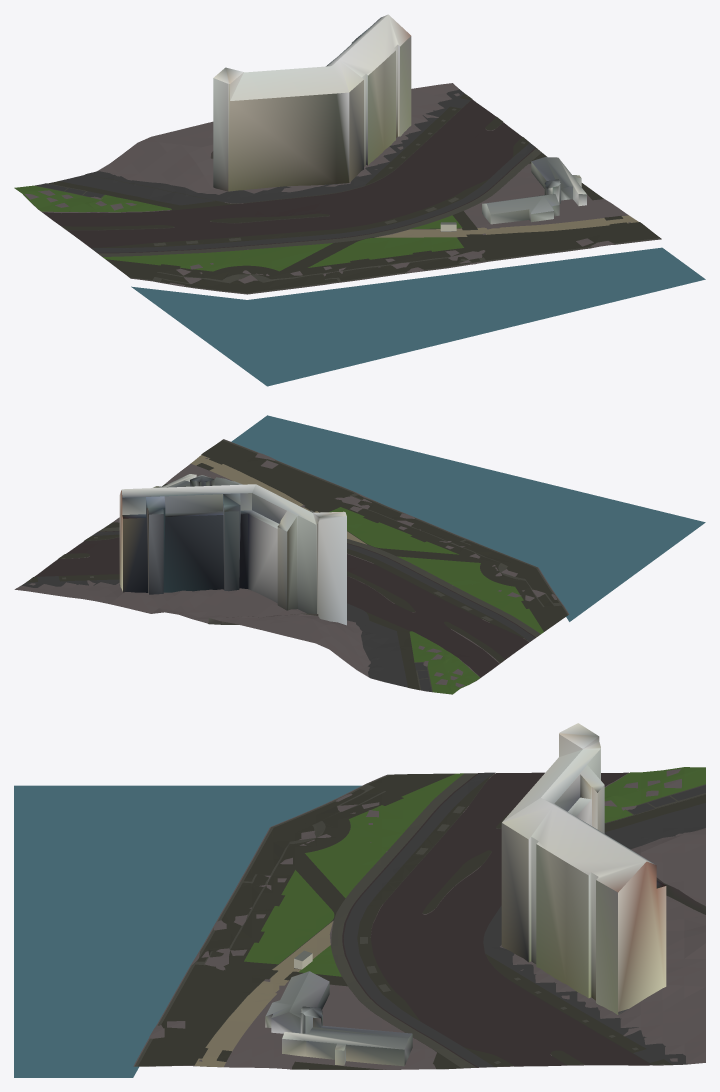
3 views of the same model, one above another, from view 1: azimuth 30°, elevation 25°; view 2: azimuth 150°, elevation 25°; view 3: azimuth 270°, elevation 25° (orthographic). The views are drawn at different scales.
Parts seen in each view (by area): view 1: c_m12_p07; view 2: c_m12_p07; view 3: c_m12_p07.
Part boxes in pixels (left/top/right/bottom): c_m12_p07: left=14, top=14, right=705, bottom=386; c_m12_p07: left=14, top=415, right=705, bottom=694; c_m12_p07: left=14, top=723, right=705, bottom=1077.
Bounding box in the file's own units: 128 × 33.52 × 128.
